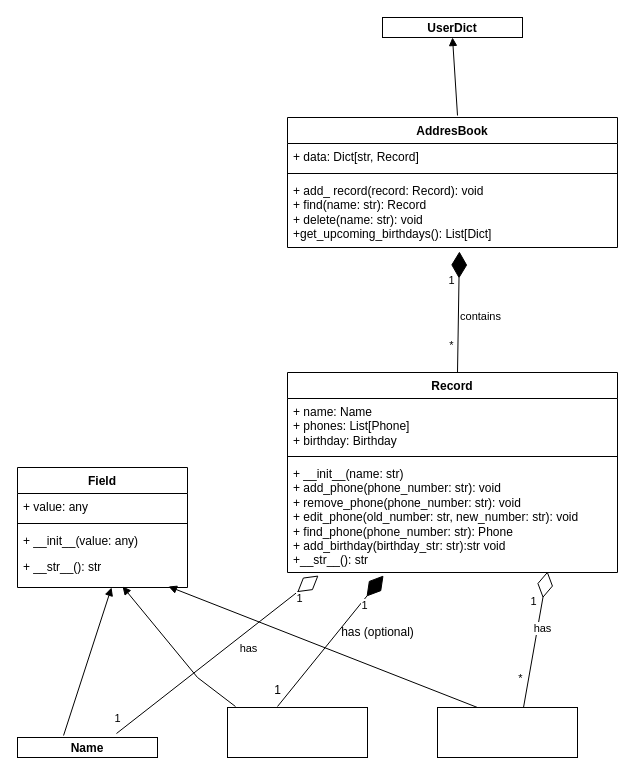
Some shapes in this 635 by 777 pixel diagram are drawn without their labels. Here are the shapes that lost their labels. From the top down, the centre of each, then its label:
At point (297, 732): "Birthday + __init__(value: str)".
At point (507, 732): "Phone + __init__(value: str)".
